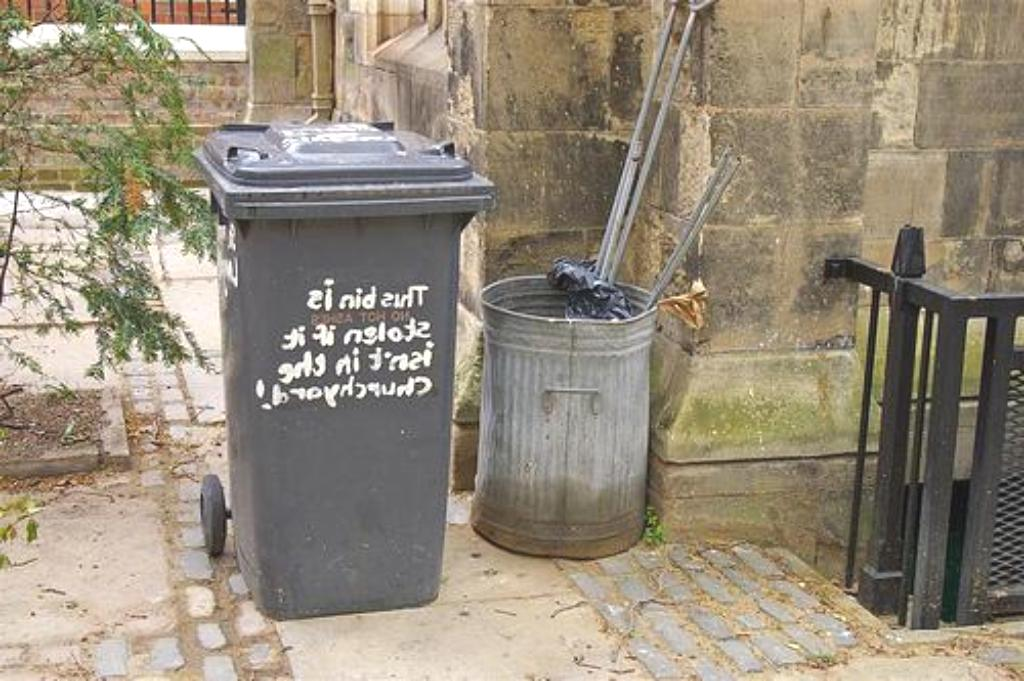dustbin: (185, 114, 485, 600), (465, 285, 660, 569)
